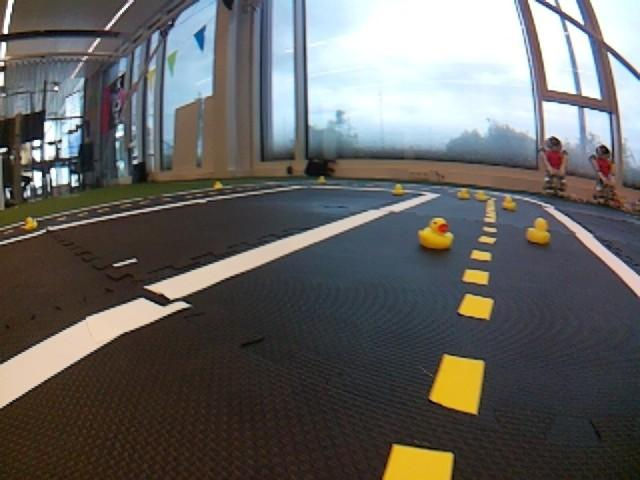Duckies: (417, 218, 456, 251), (526, 219, 550, 243), (502, 195, 516, 211), (24, 217, 38, 229), (391, 184, 404, 196), (458, 188, 470, 198), (477, 191, 487, 201), (315, 176, 325, 183), (214, 182, 222, 188)
